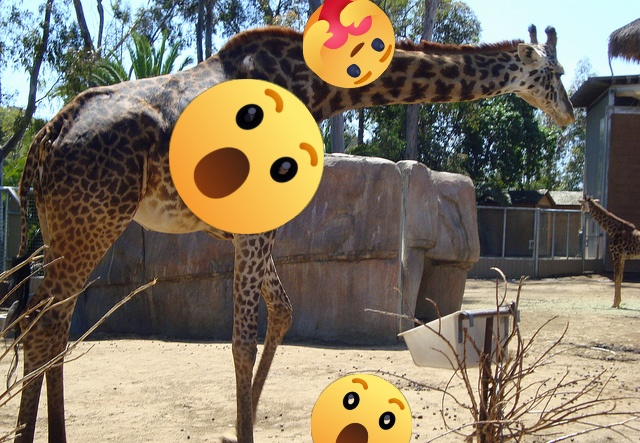care: (303, 0, 395, 88)
wow: (169, 79, 324, 234), (311, 374, 412, 443)
